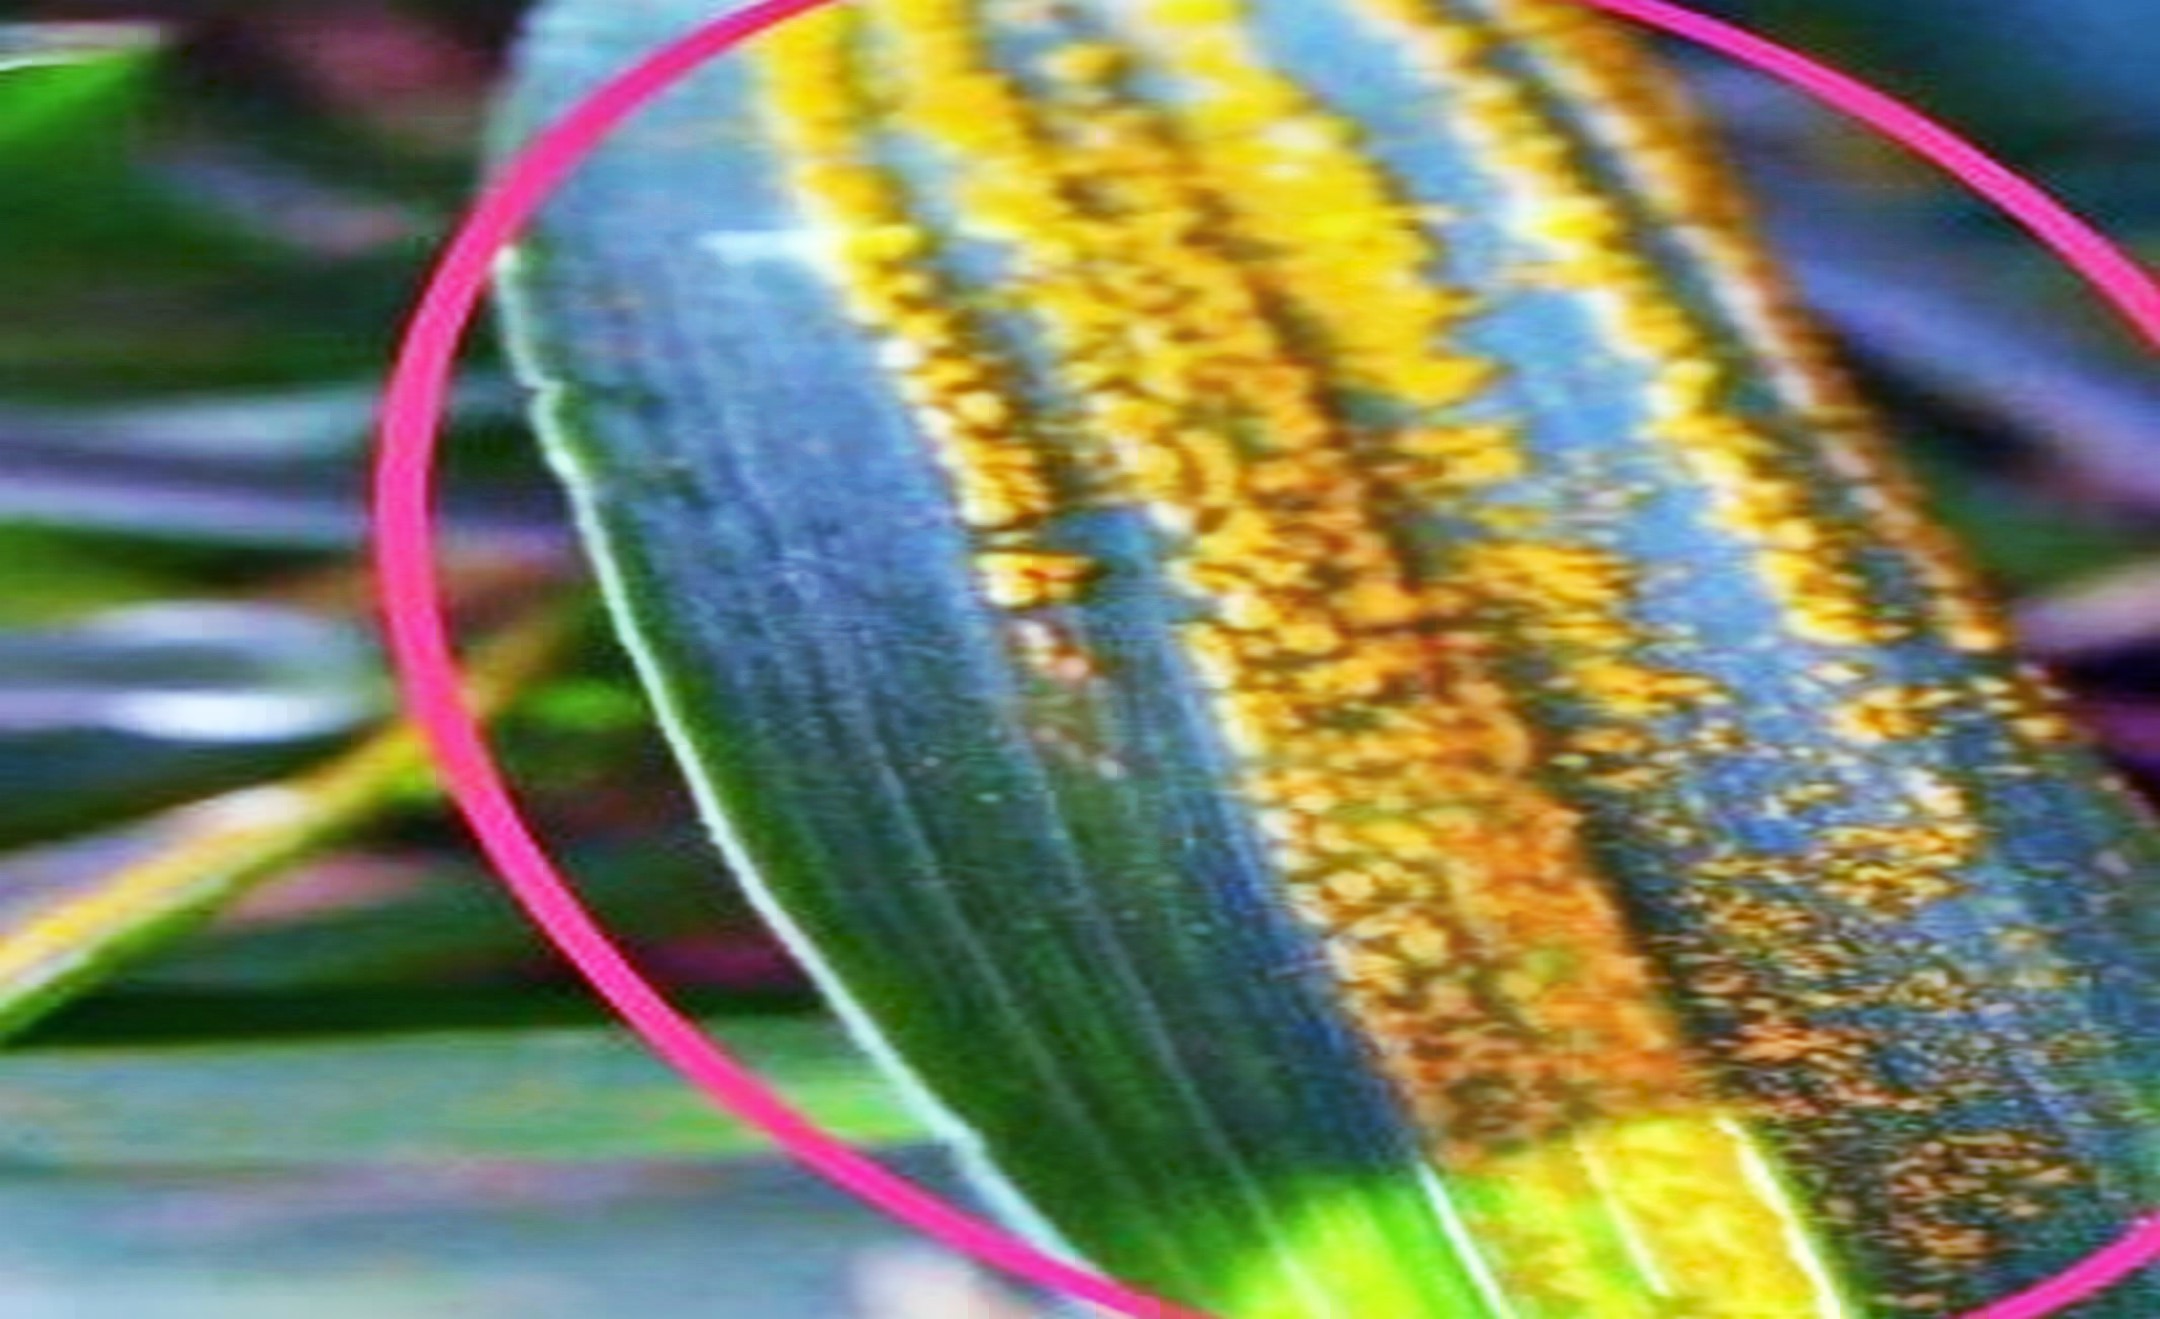Leaf Rust: (813, 156, 1824, 1165)
